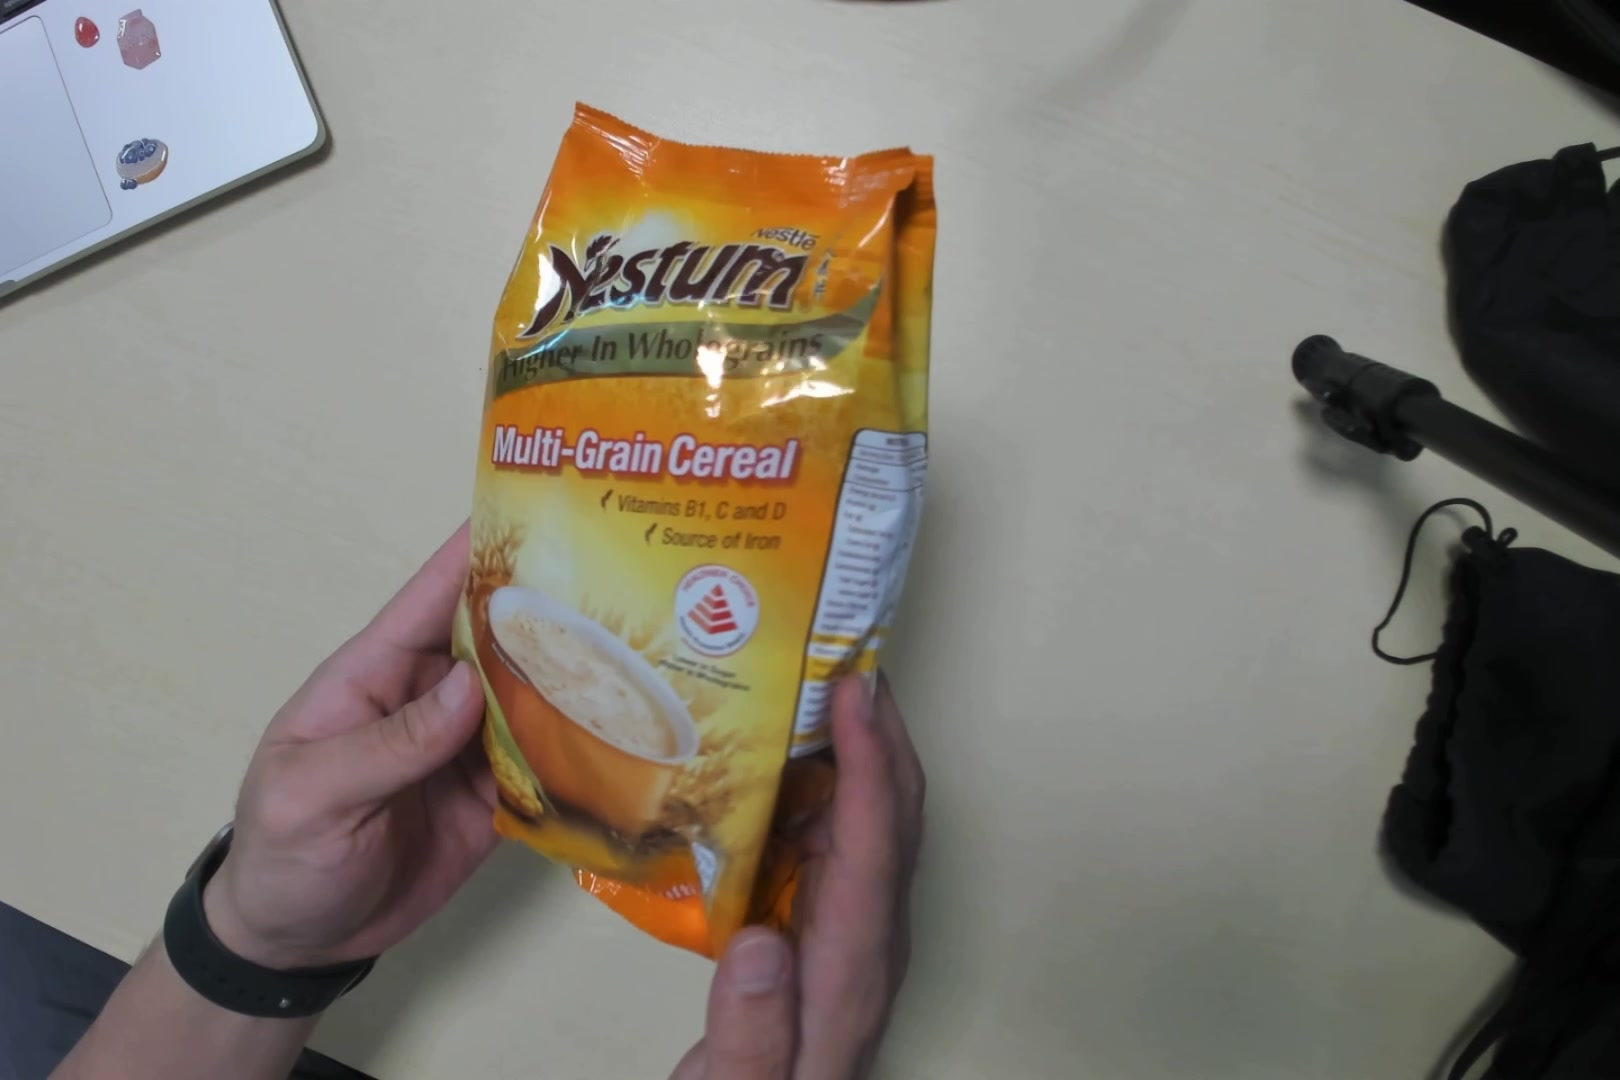RolledOatsInstantOatmeal_200-299g_NonHalal_Healthy: (450, 90, 938, 941)
